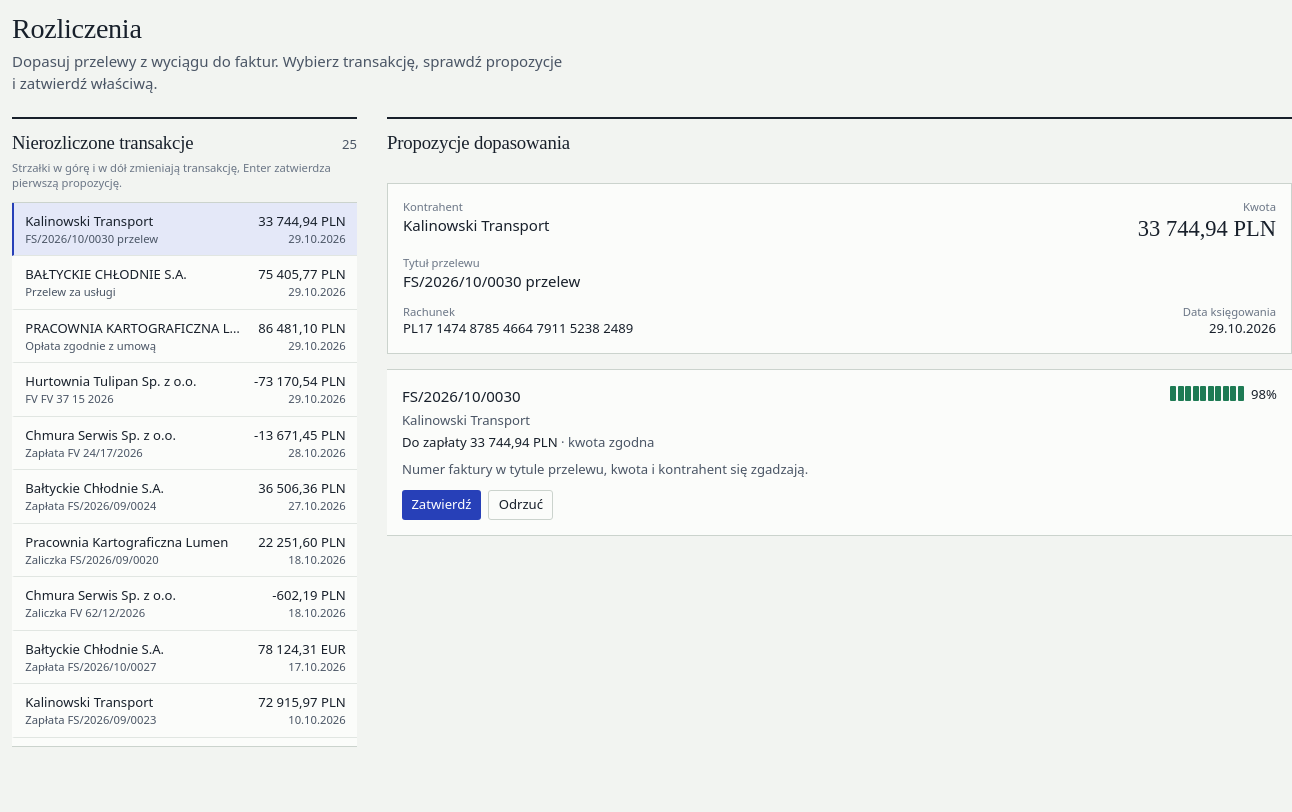
Test: ReconciliationPage › zatwierdza propozycję: transakcja znika z kolejki, a faktura zmienia status
The width and height of the screenshot is (1292, 812).
Click the button "Zatwierdź" at {"x": 441, "y": 504}, box 402,490 -> 481,520
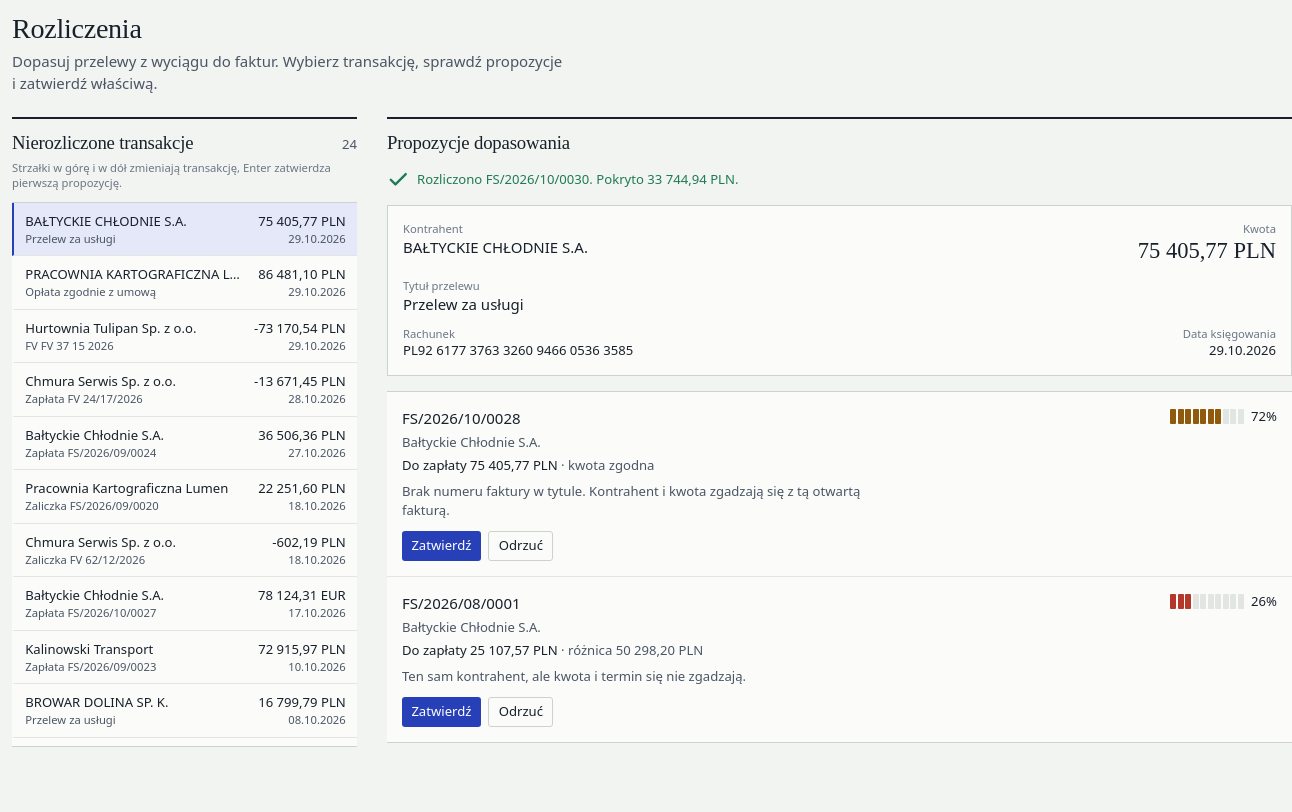
Now the text "Rozliczono FS/2026/10/0030." is shown, box 417,170 -> 593,188
